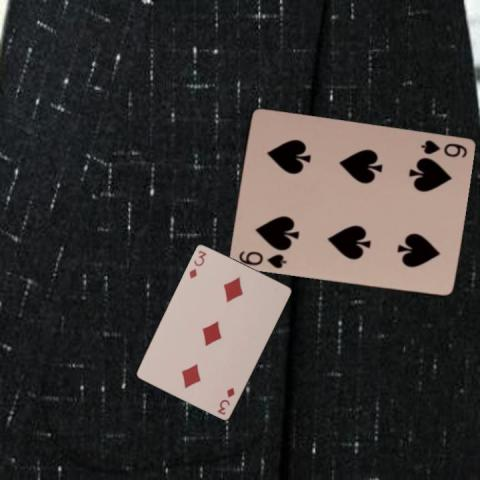3d: (186, 247, 208, 280), (214, 384, 236, 416)
6s: (236, 248, 288, 270), (417, 138, 468, 160)
